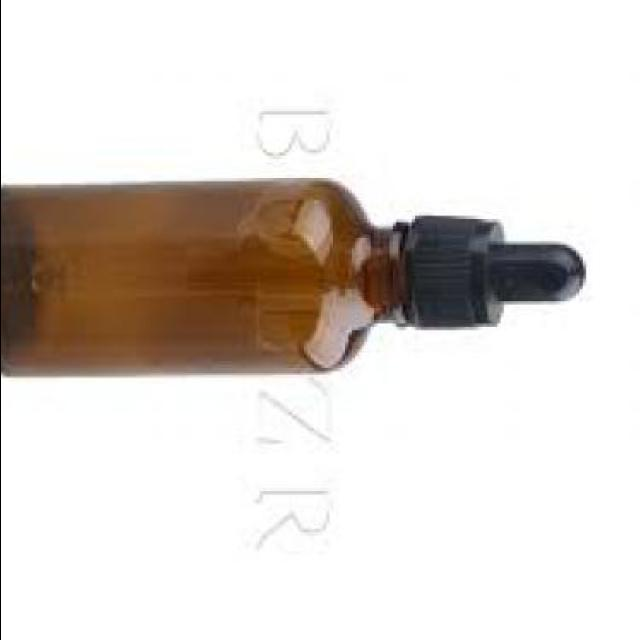kaca: (0, 178, 414, 375)
